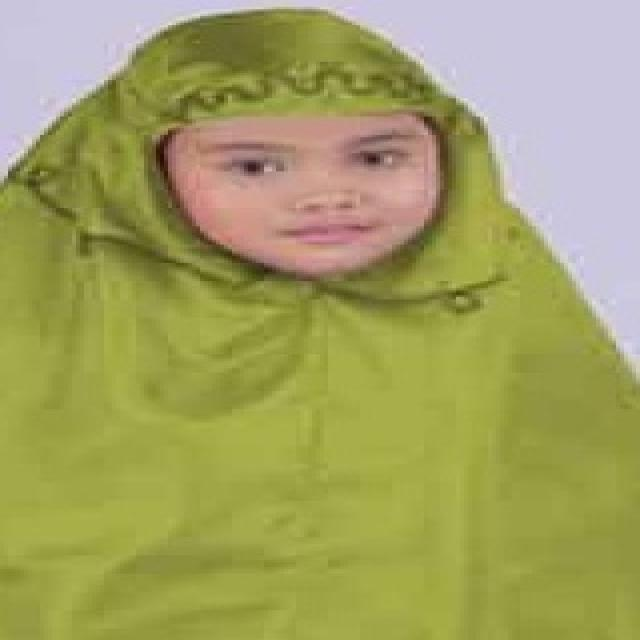head: (129, 13, 460, 288)
